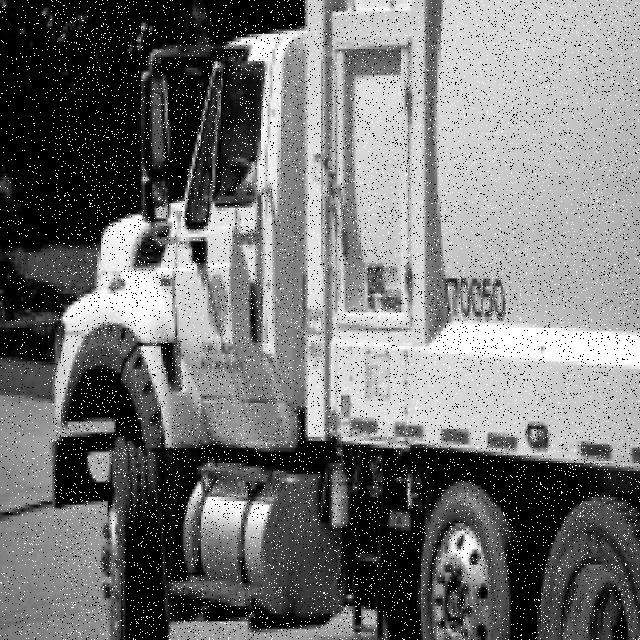Garbage Truck: (53, 0, 640, 640)
